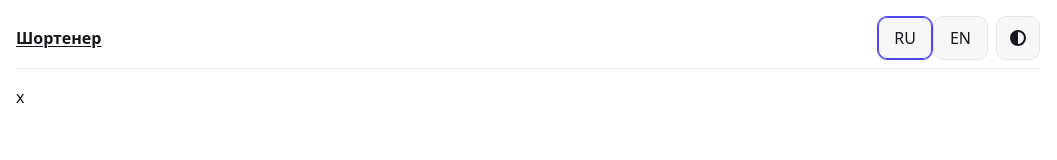
Test: AppLayout › кнопки языка лежат в группе и переключают локаль с сохранением выбора
The width and height of the screenshot is (1057, 160).
Click the button "EN". click: x=960, y=38
box: [933,16,988,60]
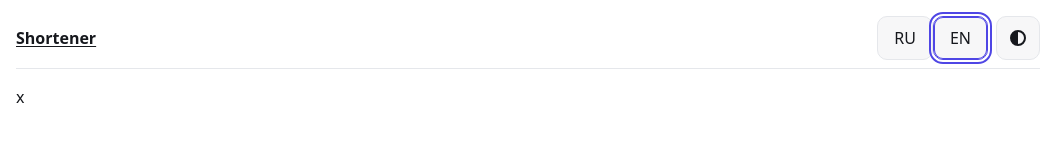
Expected: the link "Shortener" is shown, [16,27,96,49]
Expected: the element named "Language" is shown, [877,16,988,60]
